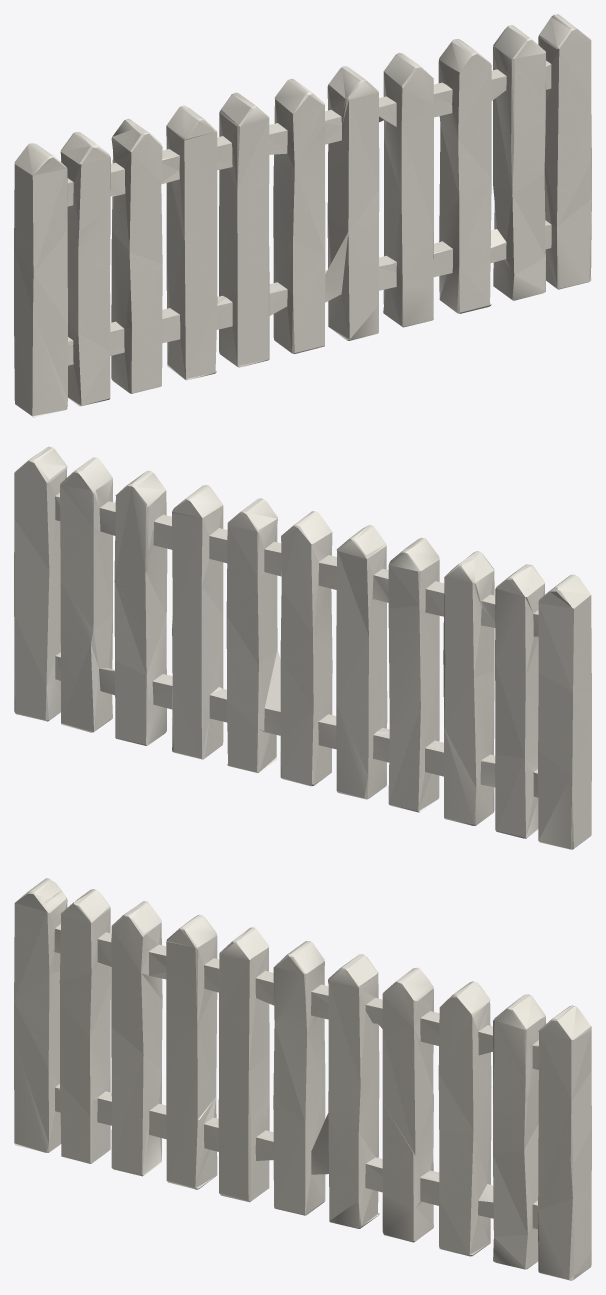
Rendered from picket_fence.glb.
3 views of the same model, one above another, from view 1: azimuth 30°, elevation 25°; view 2: azimuth 150°, elevation 25°; view 3: azimuth 330°, elevation 25° (orthographic).
Visible parts, largest first — view 1: geometry_0; view 2: geometry_0; view 3: geometry_0.
Part boxes in pixels (left/top/right/bottom): geometry_0: left=14, top=14, right=591, bottom=417; geometry_0: left=14, top=446, right=591, bottom=849; geometry_0: left=14, top=878, right=591, bottom=1280.
Size of the model in its own units: 1.9 by 0.84 by 0.12.
Materials: 1 (1 with a texture image).
